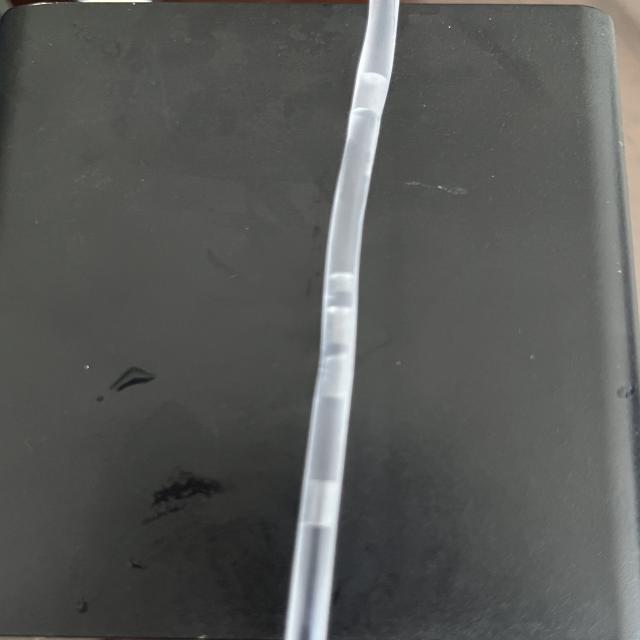bubble: (300, 349, 376, 415), (283, 466, 353, 536), (328, 66, 404, 127), (297, 302, 391, 351), (310, 263, 367, 304)
